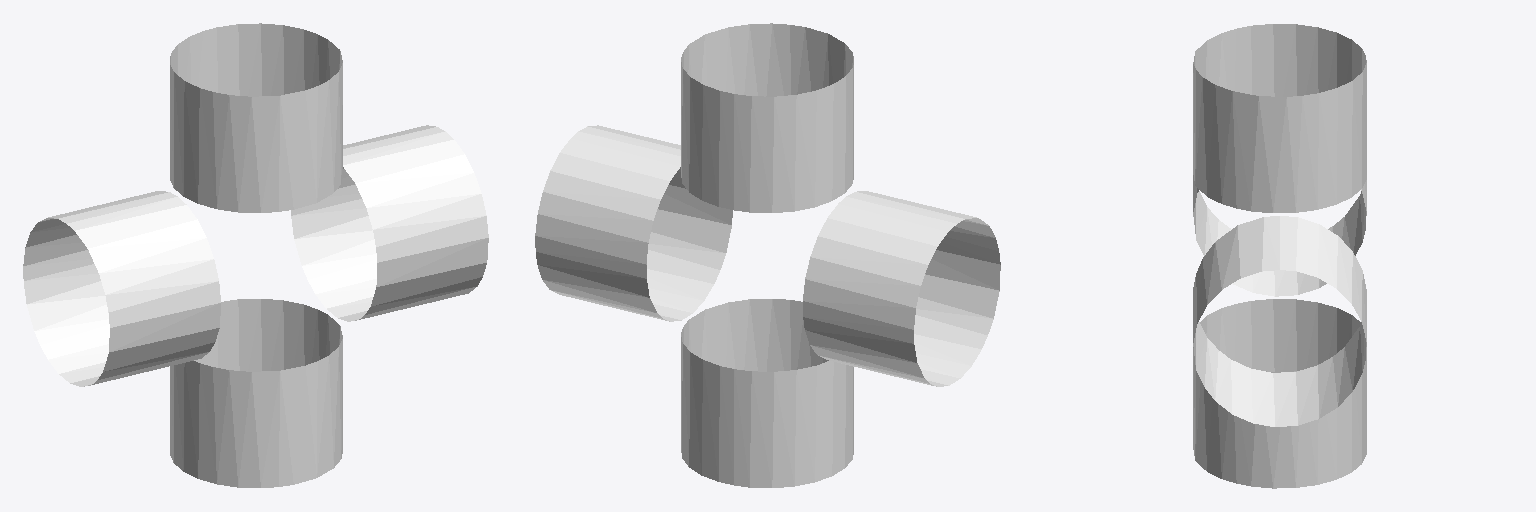
The model's file is ChainCenter.obj.
The picture shows the model from 3 angles: view 1: azimuth 30°, elevation 25°; view 2: azimuth 150°, elevation 25°; view 3: azimuth 270°, elevation 25°; orthographic projection.
Visible parts, largest first — view 1: ChainCorners; view 2: ChainCorners; view 3: ChainCorners.
Part boxes in pixels (x1,y1,x2,y2): ChainCorners: (23,23,488,487); ChainCorners: (535,23,1000,487); ChainCorners: (1193,24,1366,488).
Bounding box in the file's own units: 4.59 × 4.54 × 1.82.